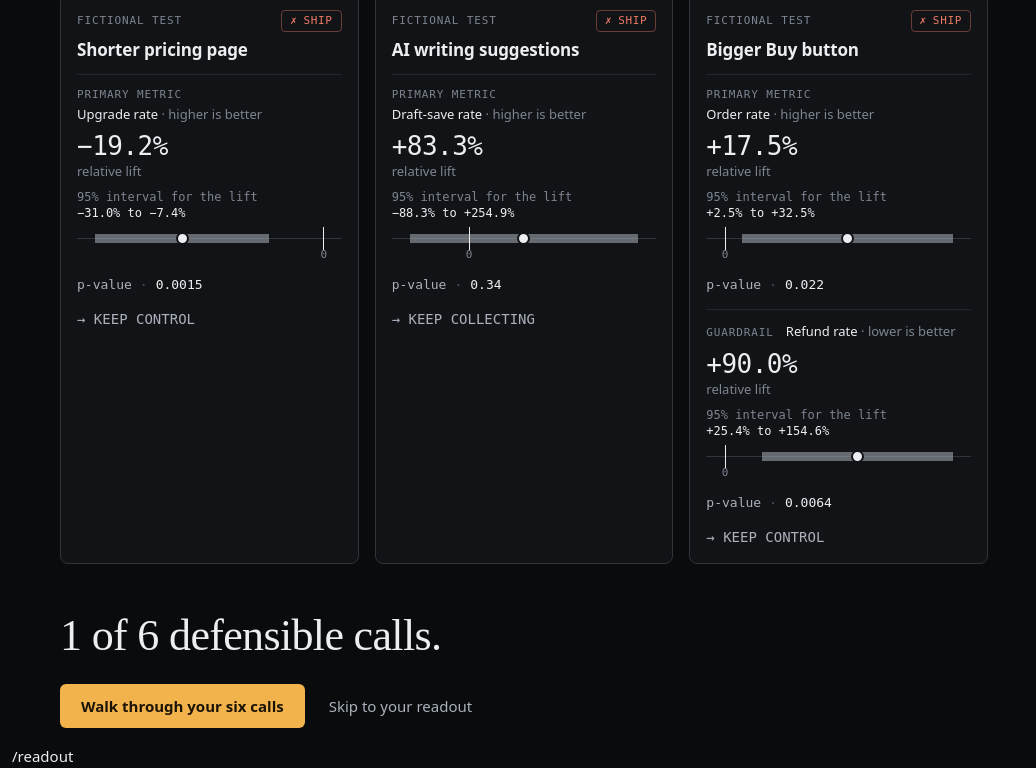
Scenario: the flip, measured › actions: walk through goes to result 1, the other link to the summary
This screenshot has width=1036, height=768.
(page scrolled)
Click the button "Walk through your six calls" at (182, 706), box [60,684,305,728]
(page scrolled)
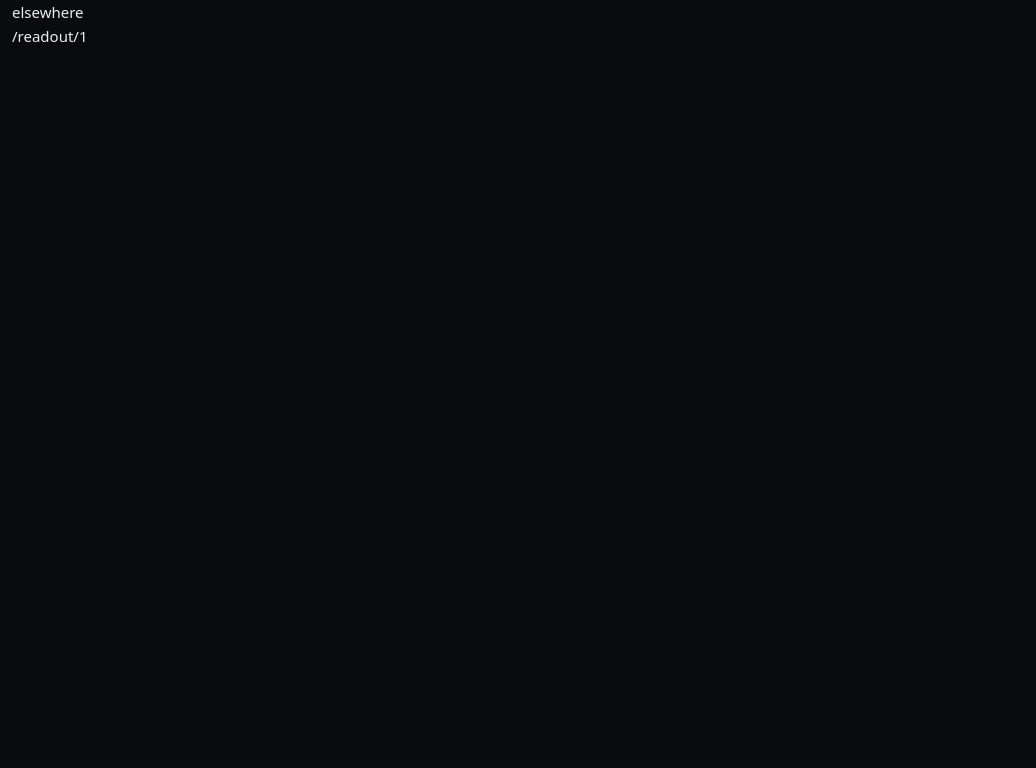
expect the text with test id "path" reads "/readout/1": met, box [12,26,88,46]
